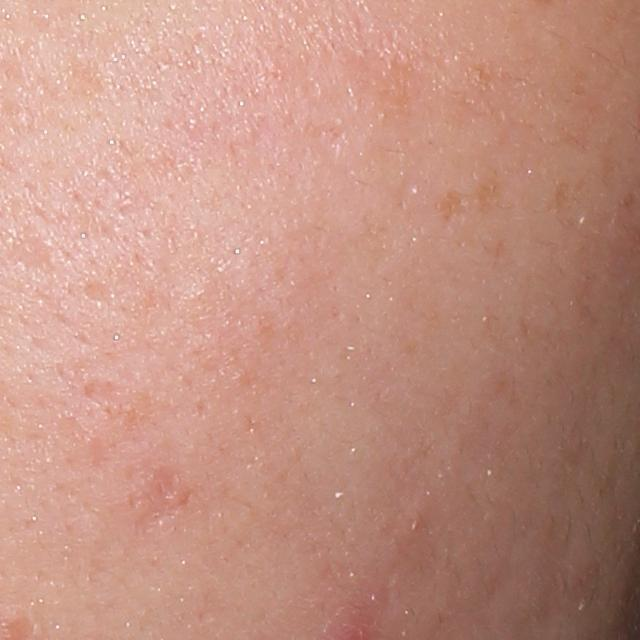atrophic_scar: (127, 465, 184, 533), (0, 218, 59, 276), (78, 377, 135, 427), (82, 275, 121, 310)
melasma: (424, 173, 511, 228)
